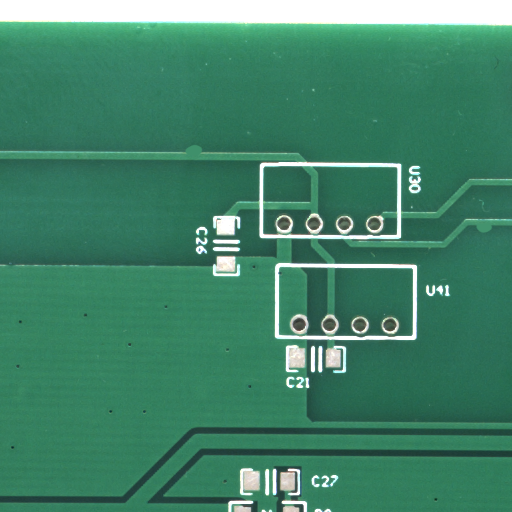Spur: (194, 149, 211, 159), (484, 228, 499, 237)
